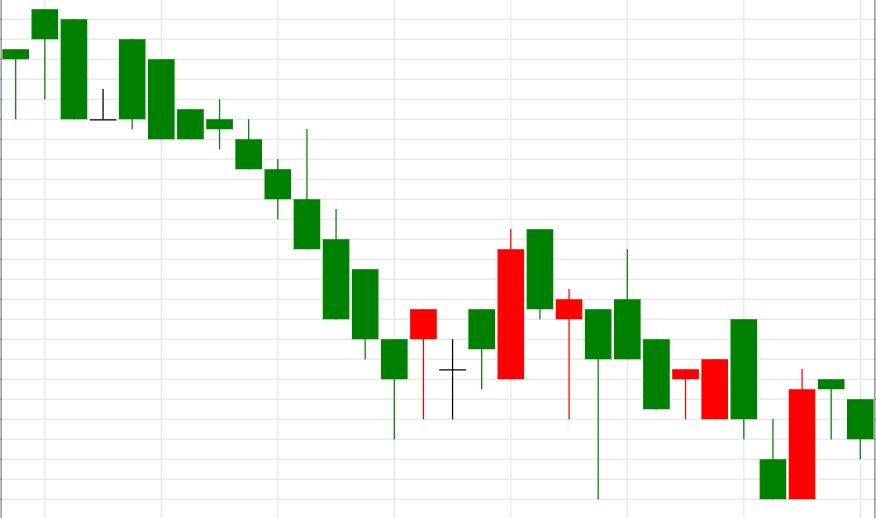bullish_engulfing_rise: (614, 249, 815, 498)
hammer_rise: (120, 39, 407, 440)
